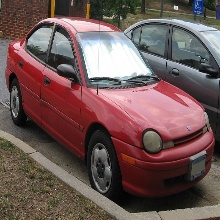no damage: (6, 15, 216, 198), (126, 17, 220, 120)
